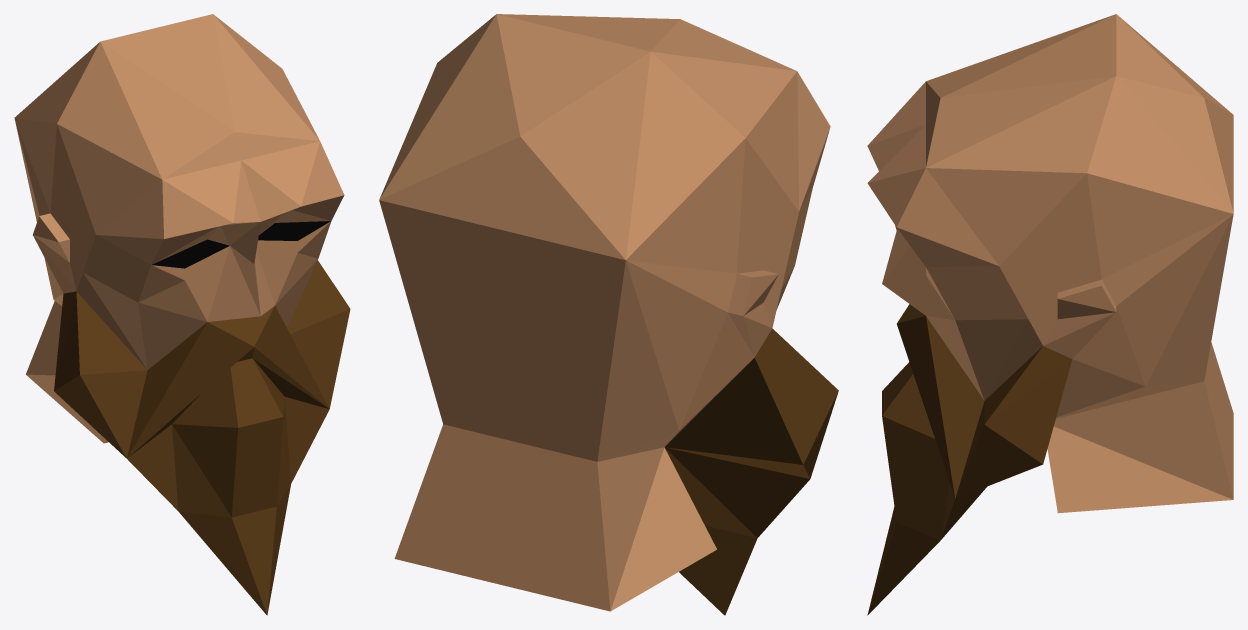
The model's file is model_2970_npc.obj.
3 views of the same model, side by side, from view 1: azimuth 30°, elevation 25°; view 2: azimuth 150°, elevation 25°; view 3: azimuth 270°, elevation 25° (orthographic). The views are drawn at different scales.
Parts seen in each view (by area): view 1: 2970; view 2: 2970; view 3: 2970.
Boxes of the visible parts, x1,y1,x2,y2 form: 2970: [14, 14, 350, 615]; 2970: [379, 14, 838, 615]; 2970: [867, 14, 1233, 615].
Bounding box in the file's own units: 24 × 43 × 25.
